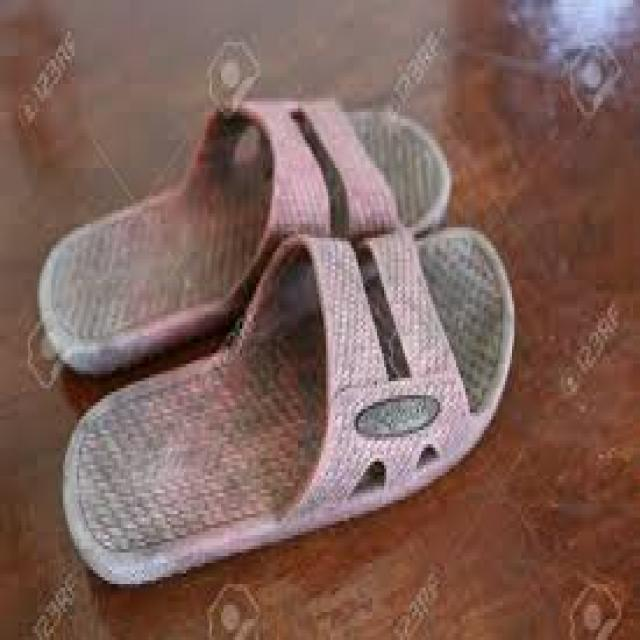other: (65, 227, 517, 586), (37, 101, 451, 376)
